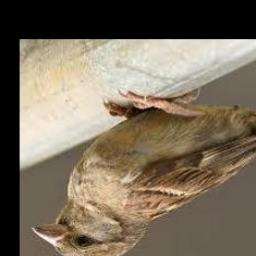Sparrow: (32, 90, 256, 256)
